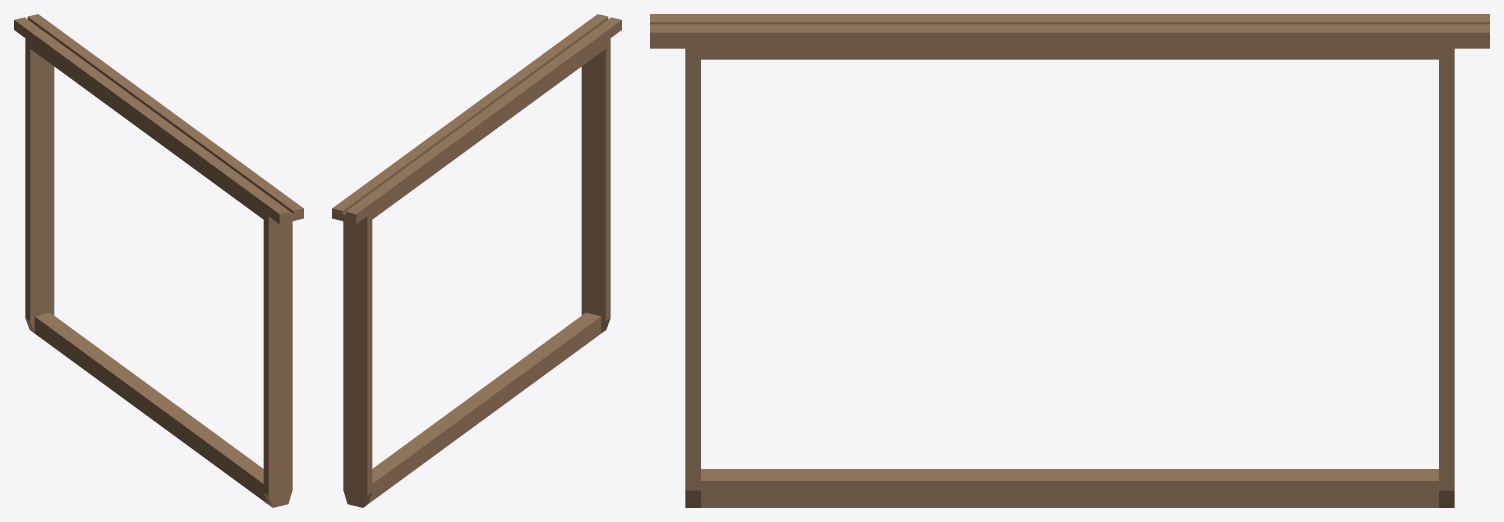
Rendered from cadre_de_ruche.fbx.
3 views of the same model, side by side, from view 1: azimuth 30°, elevation 25°; view 2: azimuth 150°, elevation 25°; view 3: azimuth 270°, elevation 25° (orthographic). The views are drawn at different scales.
Visible parts, largest first — view 1: Cube; view 2: Cube; view 3: Cube.
Boxes of the visible parts, x1=… form: Cube: x1=14, y1=14, x2=303, y2=507; Cube: x1=332, y1=14, x2=621, y2=507; Cube: x1=650, y1=14, x2=1489, y2=507.
Size of the model in its own units: 2.5 by 30 by 47.7.
